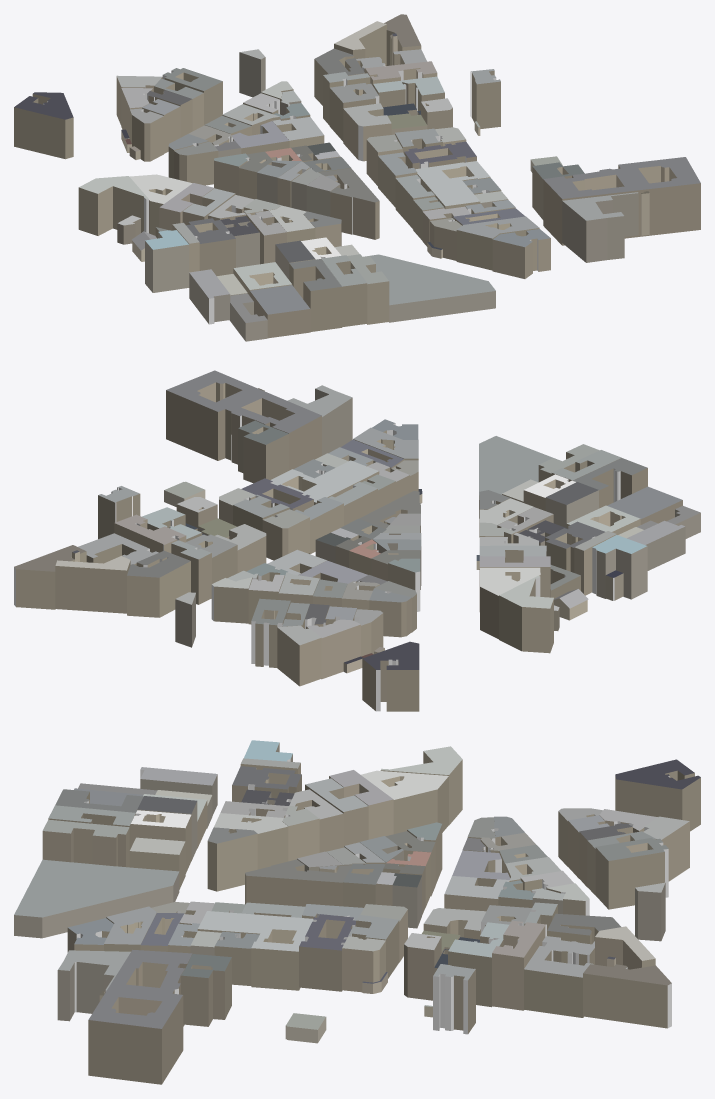
3 views of the same model, one above another, from view 1: azimuth 30°, elevation 25°; view 2: azimuth 150°, elevation 25°; view 3: azimuth 270°, elevation 25° (orthographic). The views are drawn at different scales.
Parts seen in each view (by area): view 1: tuile; view 2: tuile; view 3: tuile.
Boxes of the visible parts, left/top/right/bottom form: tuile: left=14, top=14, right=700, bottom=341; tuile: left=14, top=370, right=700, bottom=711; tuile: left=14, top=740, right=700, bottom=1084.
Size of the model in its own units: 295 by 32.06 by 296.
